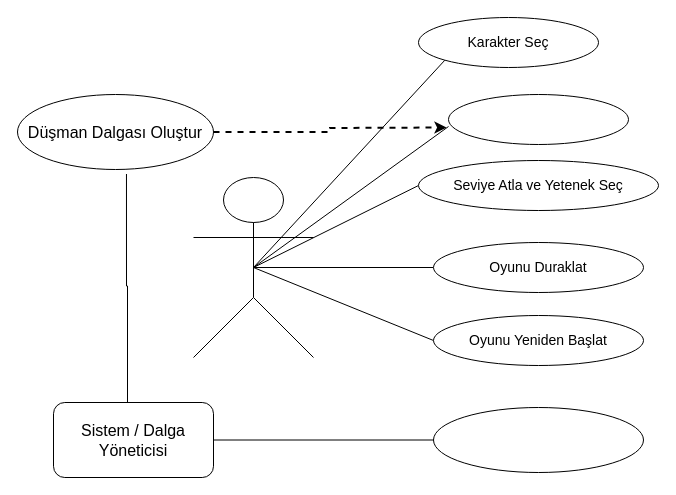
This 676x495 diagram has some shape labels left out. Here are the shapes that lost their labels. From the top down, the centre of each, then its label:
At point (538, 119): "Hareket Et".
At point (253, 267): "Oyuncu".
At point (538, 439): "Zorluk Seviyesini Artır".
